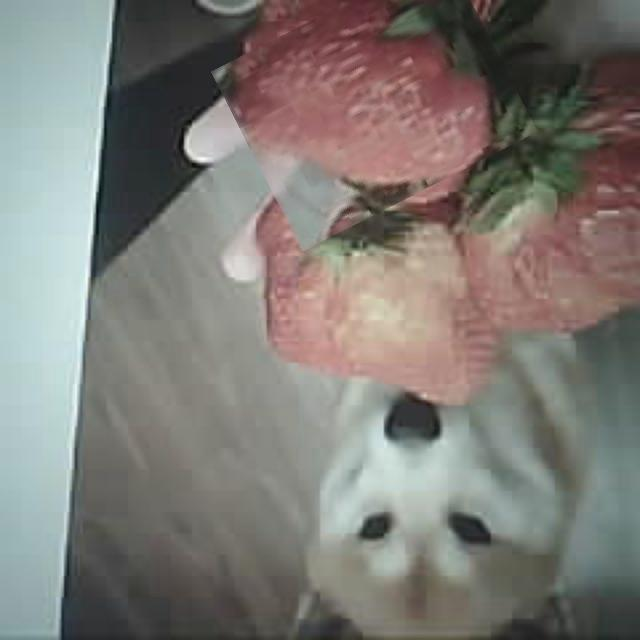strawberry: (227, 0, 522, 227)
